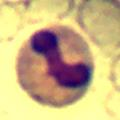monocyte: (11, 26, 98, 108)
